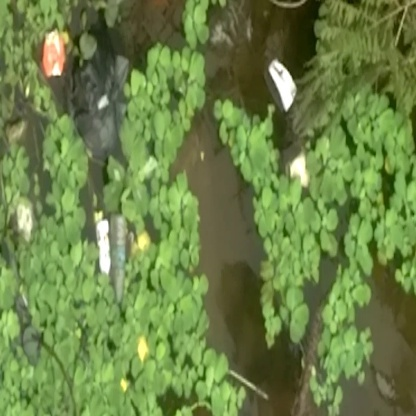bottle: (104, 210, 138, 304)
plastic-bag: (72, 43, 131, 146)
